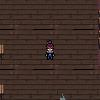Victim: (45, 38, 55, 60)
Win: (56, 91, 69, 100)
